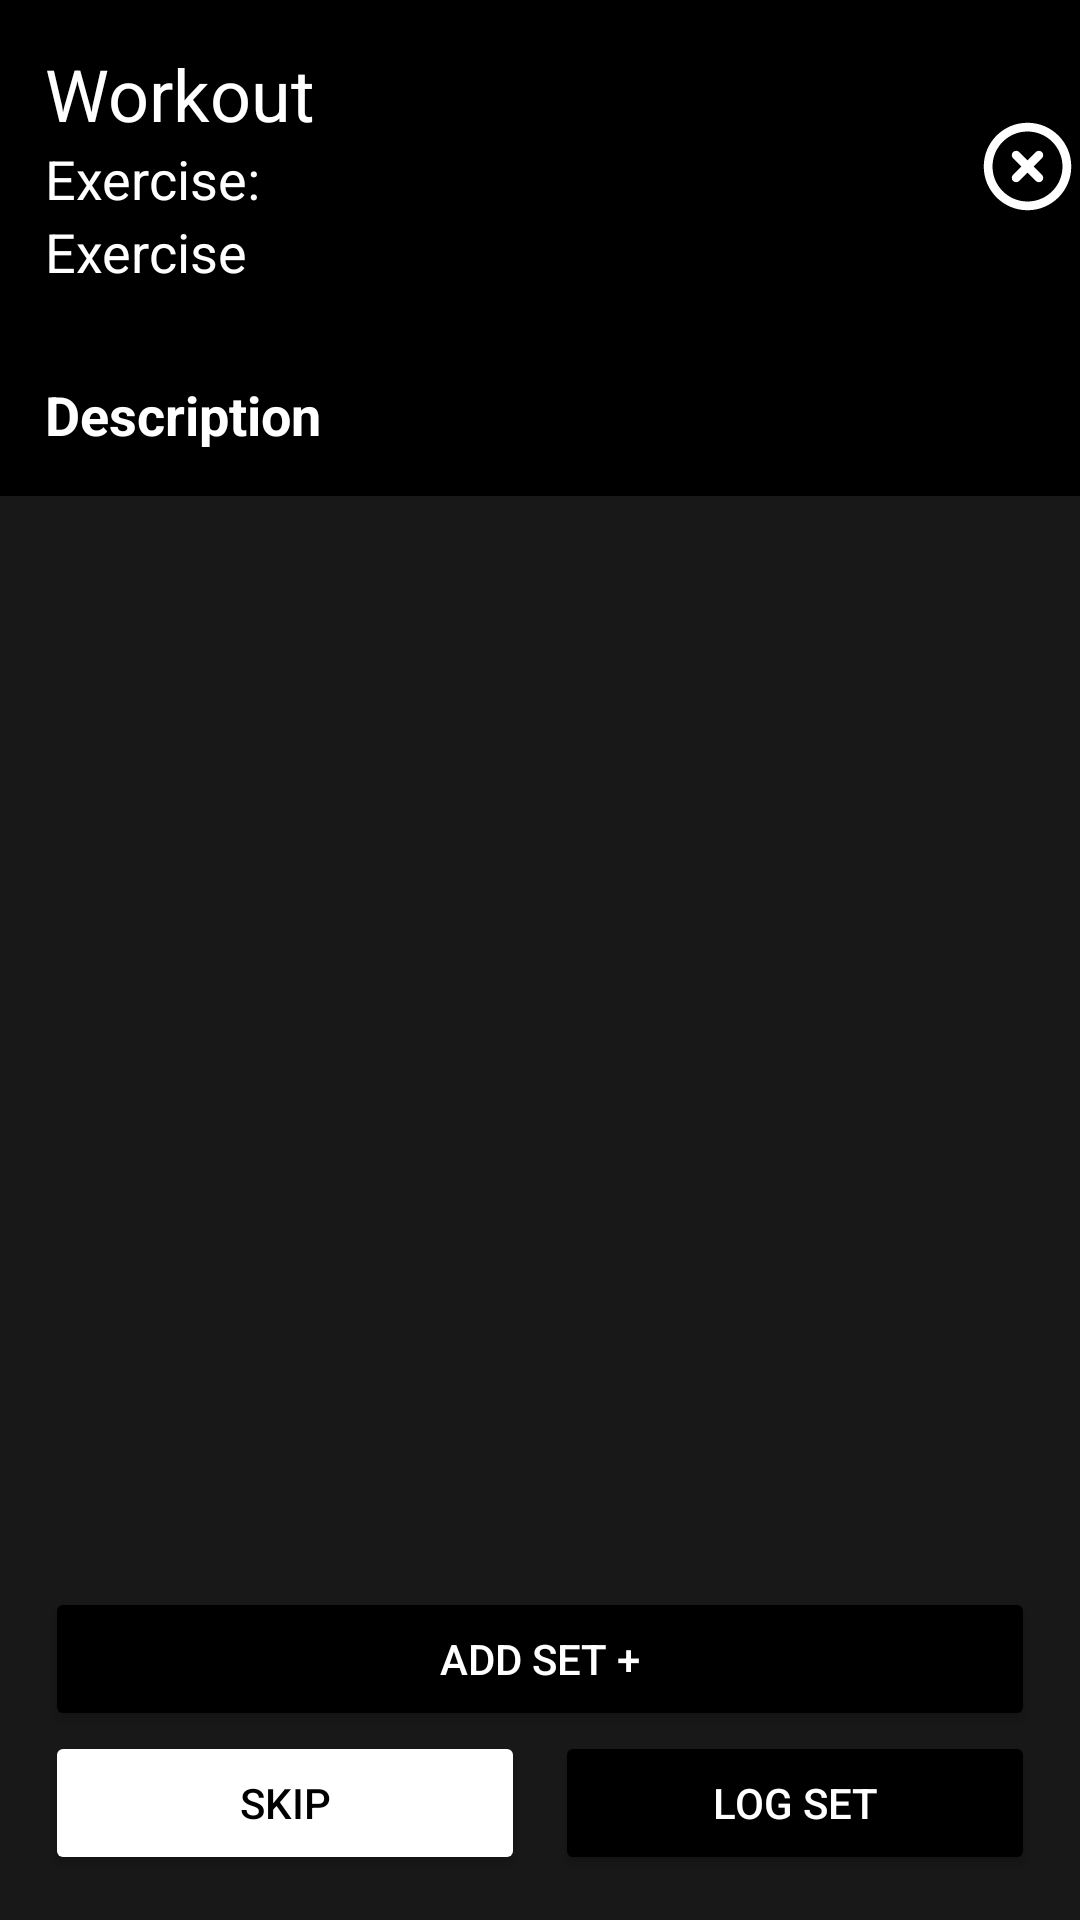

Where to tap for icons on this 1080 x 1920 app screen, as point (x, y):
highlight off: point (1027, 166)
